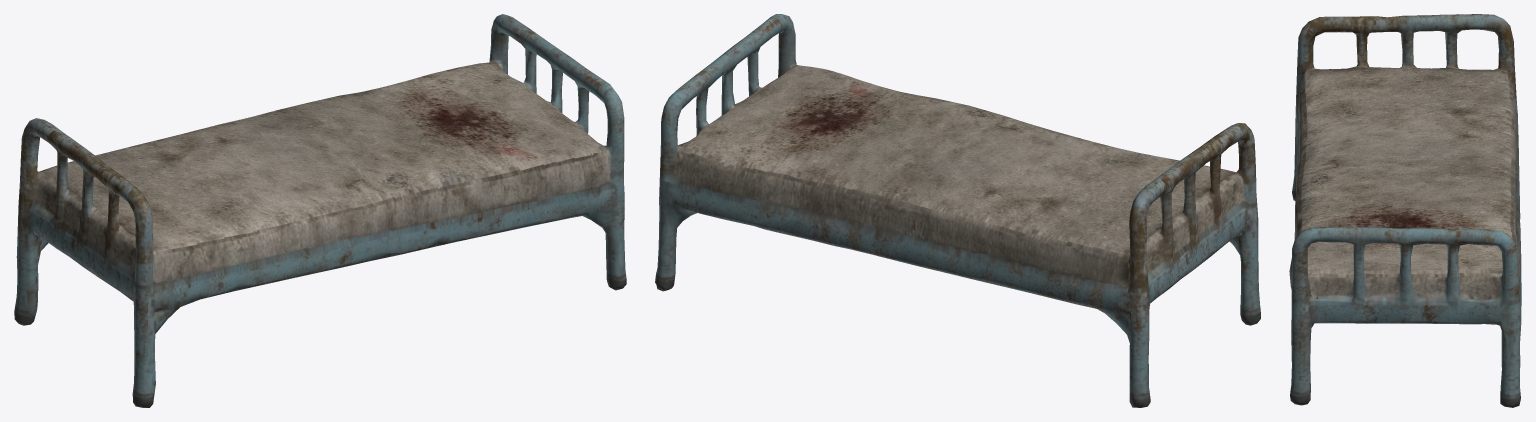
File: bunker_medical_cot_candidate.glb
3 renders of one model, left to right at view 1: azimuth 30°, elevation 25°; view 2: azimuth 150°, elevation 25°; view 3: azimuth 270°, elevation 25°, orthographic. The views are drawn at different scales.
Visible parts, largest first — view 1: bunker_medical_cot_candidate; view 2: bunker_medical_cot_candidate; view 3: bunker_medical_cot_candidate.
Part boxes in pixels (x1,y1,x2,y2): bunker_medical_cot_candidate: (14, 14, 626, 407); bunker_medical_cot_candidate: (655, 14, 1260, 407); bunker_medical_cot_candidate: (1289, 14, 1521, 407).
Bounding box in the file's own units: 2.1 × 0.85 × 0.95.
1 material, 1 textured.
